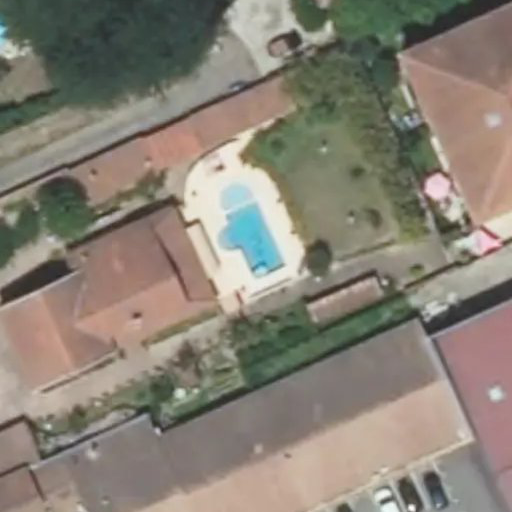pool: (217, 222, 286, 267)
